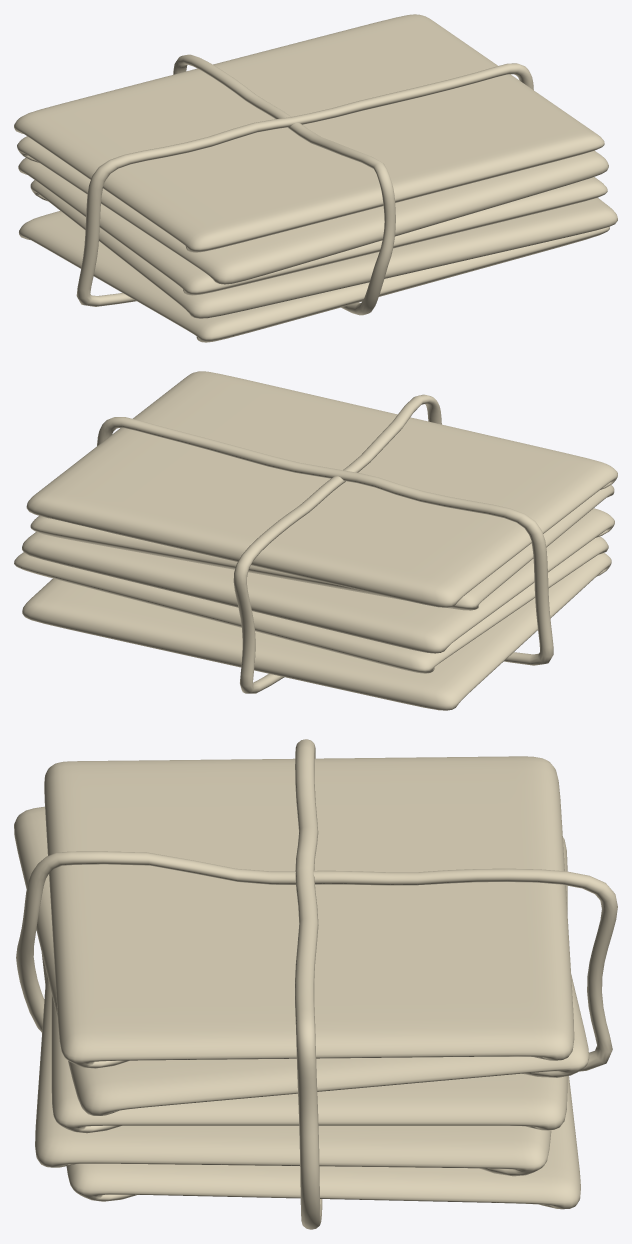
Rendered from rua_envelope_01.glb.
3 renders of one model, top to bottom at view 1: azimuth 30°, elevation 25°; view 2: azimuth 150°, elevation 25°; view 3: azimuth 270°, elevation 25°, orthographic. The views are drawn at different scales.
Visible parts, largest first — view 1: SM_Envelope_01; view 2: SM_Envelope_01; view 3: SM_Envelope_01.
Boxes of the visible parts, bbox=[...] form: SM_Envelope_01: bbox=[14, 14, 617, 342]; SM_Envelope_01: bbox=[14, 371, 617, 710]; SM_Envelope_01: bbox=[14, 739, 617, 1229].
Size of what is drawn, in the model's own units: 0.2391 by 0.085 by 0.1883.
